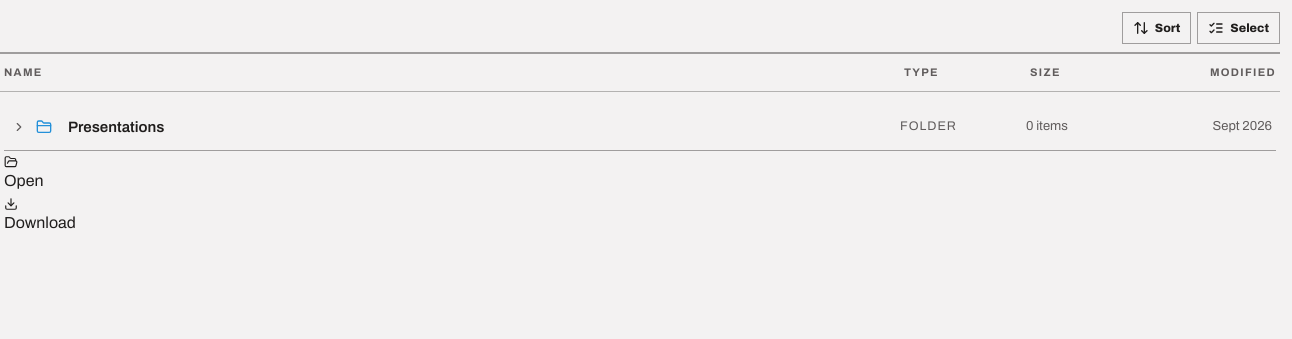
it: DriveBrowser › turns Select all into Deselect all, and back
This screenshot has width=1292, height=339.
Click the button "Select".
click(1239, 28)  # box top-left (1197, 12), bottom-right (1280, 44)
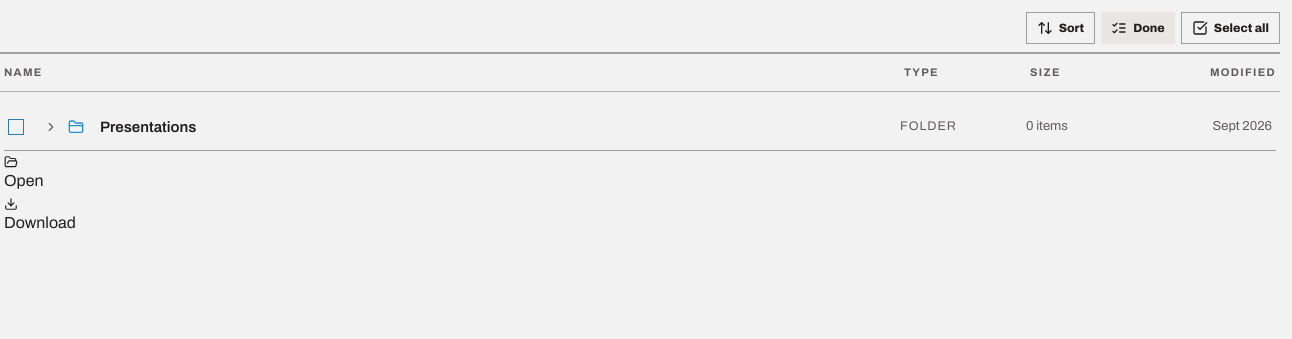
Click the button "Select all".
click(1230, 28)  # box top-left (1181, 12), bottom-right (1280, 44)
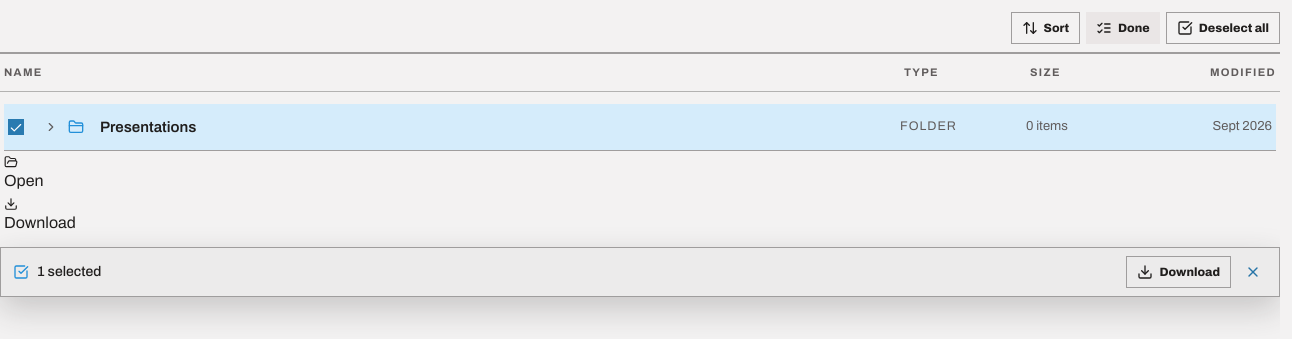
Check: the text "1 selected" is shown, box top-left (37, 262), bottom-right (101, 282)
Click the button "Deselect all".
click(1223, 28)  # box top-left (1166, 12), bottom-right (1280, 44)
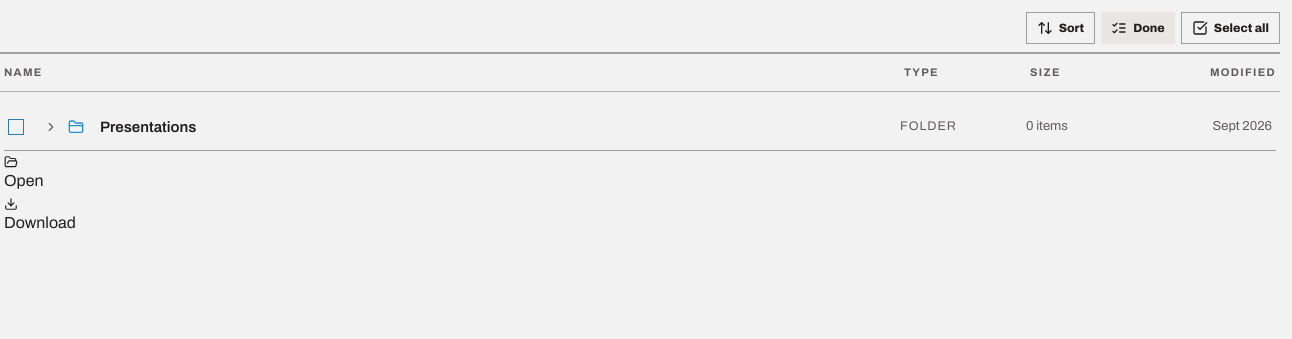
Check: the button "Select all" is shown, box top-left (1181, 12), bottom-right (1280, 44)
Check: the text "1 selected" is gone
